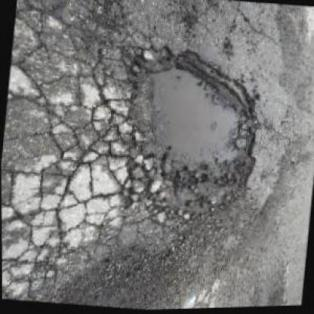Hueco: (106, 40, 270, 232)
